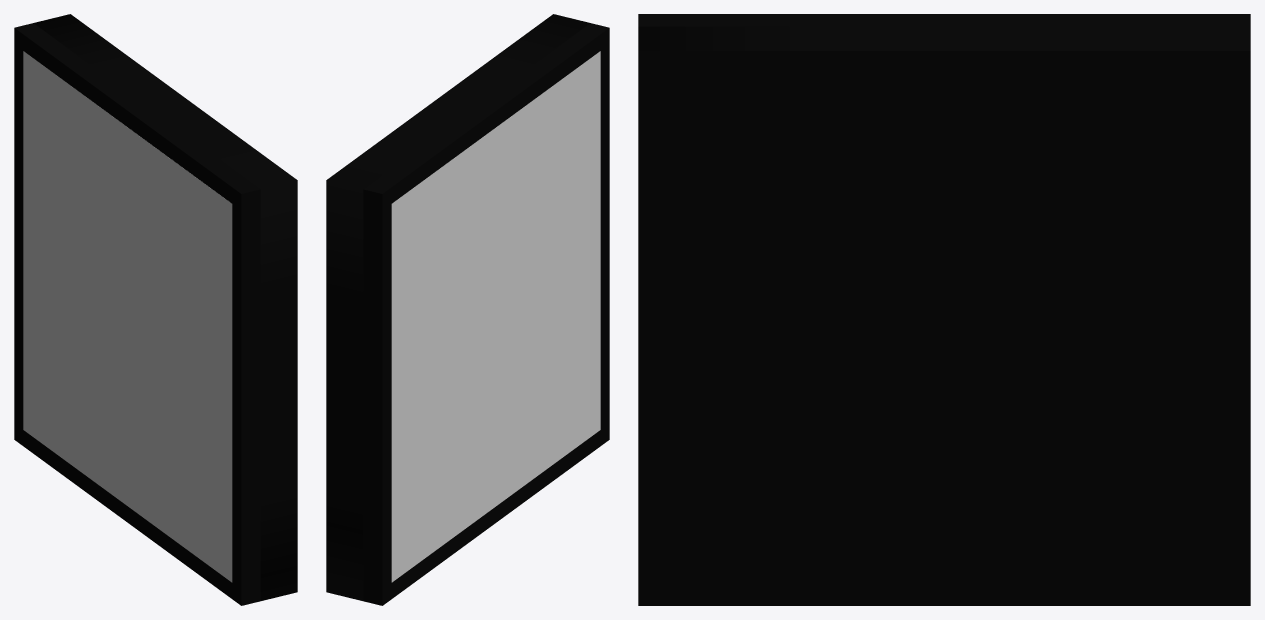
The model's file is gauge_rpm.fbx.
3 views of the same model, side by side, from view 1: azimuth 30°, elevation 25°; view 2: azimuth 150°, elevation 25°; view 3: azimuth 270°, elevation 25° (orthographic). The views are drawn at different scales.
Parts seen in each view (by area): view 1: pressureGauge_glass002, gauge_rpm; view 2: pressureGauge_glass002, gauge_rpm; view 3: gauge_rpm.
Part boxes in pixels (left/top/right/bottom): pressureGauge_glass002: left=23, top=51, right=232, bottom=582; gauge_rpm: left=14, top=14, right=297, bottom=605; pressureGauge_glass002: left=391, top=51, right=600, bottom=582; gauge_rpm: left=326, top=14, right=609, bottom=605; gauge_rpm: left=638, top=14, right=1250, bottom=605.
Size of the model in its own units: 1.89 by 13.2 by 13.2.
1 material, 1 textured.
